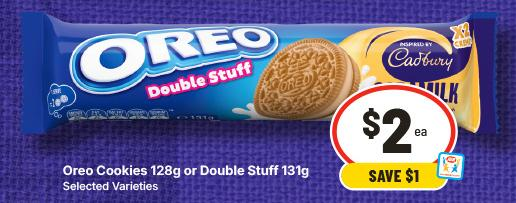description_block: (61, 154, 323, 181)
price_main: (327, 82, 457, 165)
product_image_block: (10, 6, 503, 136)
promo_text_block: (331, 159, 454, 192)
